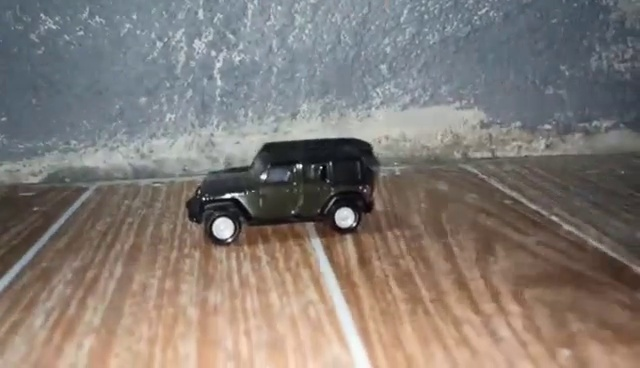car: (188, 139, 378, 251)
